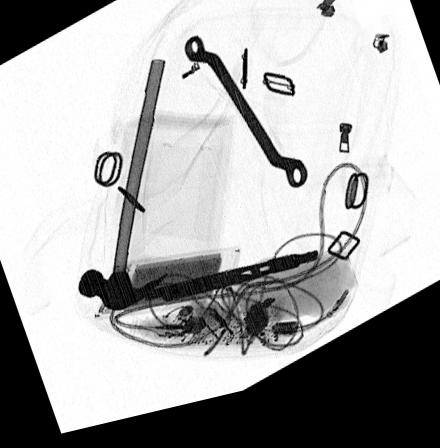Hammer: (79, 66, 167, 315)
Pliers: (157, 262, 318, 311)
Powerbank: (117, 257, 241, 319)
Wrench: (184, 43, 308, 202)
